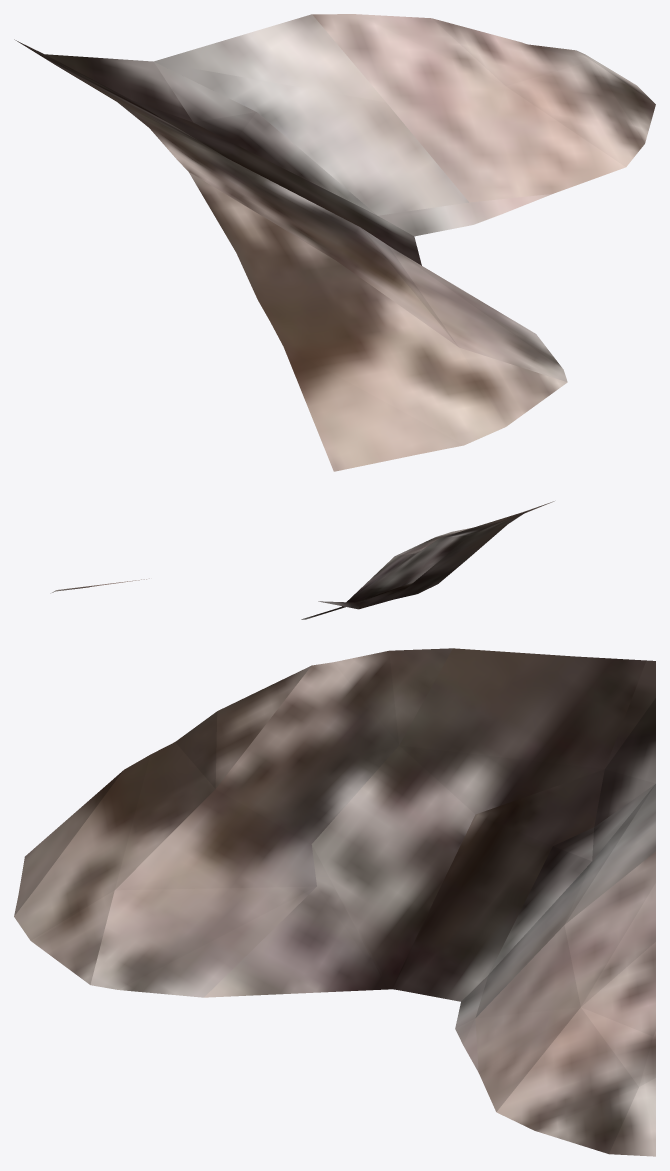
3 views of the same model, one above another, from view 1: azimuth 30°, elevation 25°; view 2: azimuth 150°, elevation 25°; view 3: azimuth 270°, elevation 25° (orthographic). The views are drawn at different scales.
Bounding box in the file's own units: 0.2408 × 0.078 × 0.2177.
Materials: 1 (1 with a texture image).
